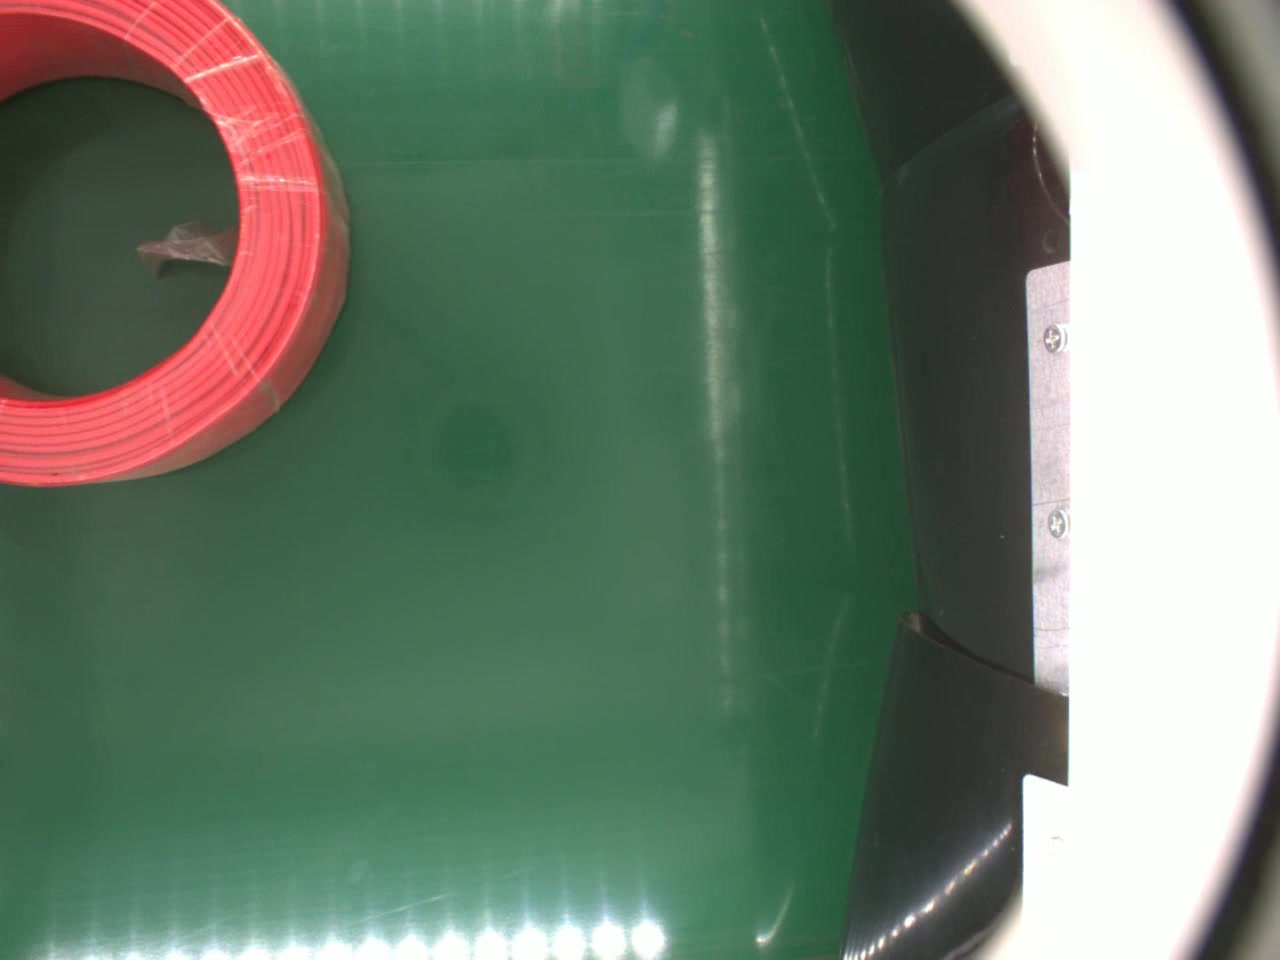red: (0, 0, 356, 496)
